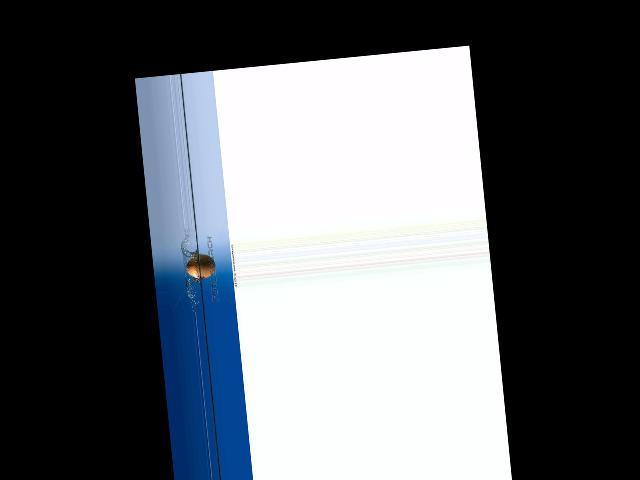egg: (185, 252, 216, 279)
